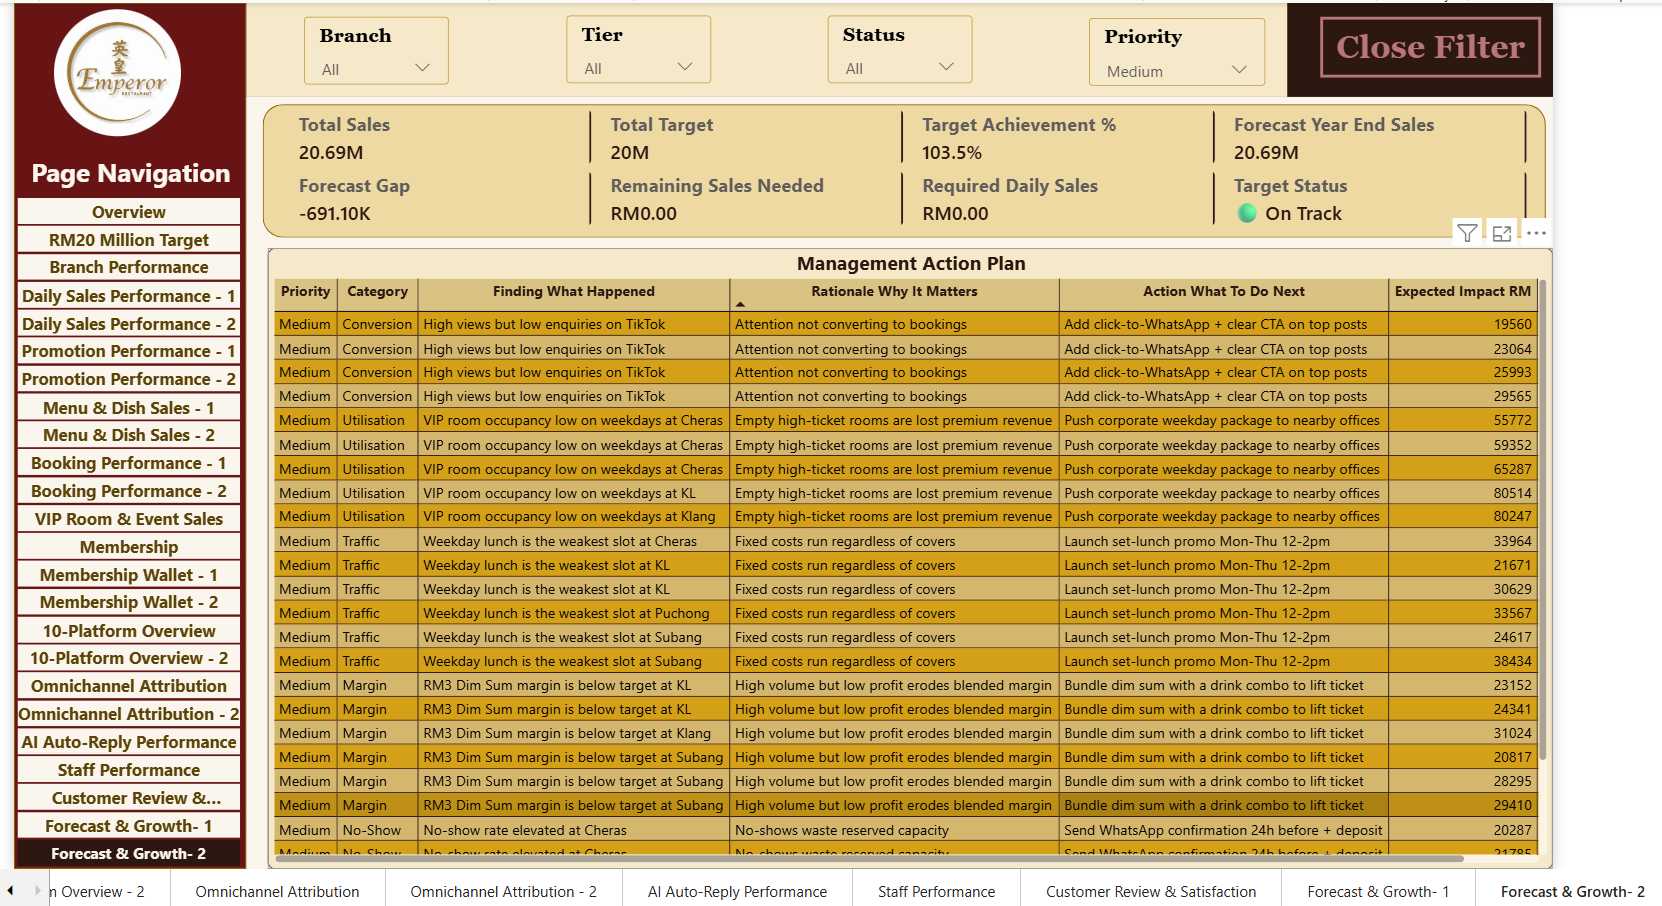

This screenshot's page, from the dashboard's own definition file:
{"tool":"powerbi","page":{"name":"Forecast & Growth- 2","canvas":[1600,900],"ordinal":23},"visuals":[{"type":"shape","box":[0,0.3,241.3,899.7],"z":0},{"type":"shape","box":[258.2,104.7,1333.3,138.6],"z":1000},{"type":"cardVisual","fields":{"Data":["__DAX_Measures.Total Sales","__DAX_Measures.Annual Target","__DAX_Measures.Target Achievement %","__DAX_Measures.Forecast Year End Sales","__DAX_Measures.Forecast Gap","__DAX_Measures.Remaining Sales Needed","__DAX_Measures.Required Daily Sales","__DAX_Measures.Target Status"]},"box":[273.2,100.6,1313,142.7],"z":2000},{"type":"textbox","box":[241.3,0,1359,97.4],"z":3000},{"type":"tableEx","title":"Management Action Plan","fields":{"Values":["Fact_ActionPlan.Priority","Fact_ActionPlan.Category","Fact_ActionPlan.Finding_WhatHappened","Fact_ActionPlan.Rationale_WhyItMatters","Fact_ActionPlan.Action_WhatToDoNext","Fact_ActionPlan.ExpectedImpactRM","Fact_ActionPlan.Status"]},"box":[263.7,254.2,1336.1,645.6],"z":4000},{"type":"shape","box":[241.3,0,1081.4,97.4],"z":6000},{"type":"actionButton","title":"Close Filter","box":[1357.5,14.5,229.6,63.3],"z":7000},{"type":"slicer","fields":{"Values":["Dim_Branch.BranchName"]},"box":[302,14,150,70],"z":8000},{"type":"slicer","fields":{"Values":["Dim_Customer.Tier"]},"box":[573.6,12.9,150,70],"z":9000},{"type":"slicer","fields":{"Values":["Fact_ActionPlan.Priority"]},"box":[1116.7,15.3,183.3,70],"z":10000},{"type":"slicer","fields":{"Values":["Dim_Customer.Status"]},"box":[845.1,13.6,150,70],"z":11000},{"type":"image","box":[41.9,6.2,131.9,131.9],"z":12000},{"type":"textbox","box":[0,152.6,242.7,46.5],"z":13000},{"type":"pageNavigator","box":[4.4,202.3,231.1,697.7],"z":14000}]}

Visuals, with their boxes on the page's 1600x900 design canvas (x1, y1, x2, y2). These are canvas units, not pixel positions in the 1662x906 screenshot, which may show the page scaled, cropped or inside an application window:
shape: detection(0, 0, 241, 900)
shape: detection(258, 105, 1592, 243)
cardVisual - __DAX_Measures.Total Sales x __DAX_Measures.Annual Target: detection(273, 101, 1586, 243)
textbox: detection(241, 0, 1600, 97)
"Management Action Plan" tableEx: detection(264, 254, 1600, 900)
shape: detection(241, 0, 1323, 97)
"Close Filter" actionButton: detection(1358, 14, 1587, 78)
slicer - Dim_Branch.BranchName: detection(302, 14, 452, 84)
slicer - Dim_Customer.Tier: detection(574, 13, 724, 83)
slicer - Fact_ActionPlan.Priority: detection(1117, 15, 1300, 85)
slicer - Dim_Customer.Status: detection(845, 14, 995, 84)
image: detection(42, 6, 174, 138)
textbox: detection(0, 153, 243, 199)
pageNavigator: detection(4, 202, 236, 900)
